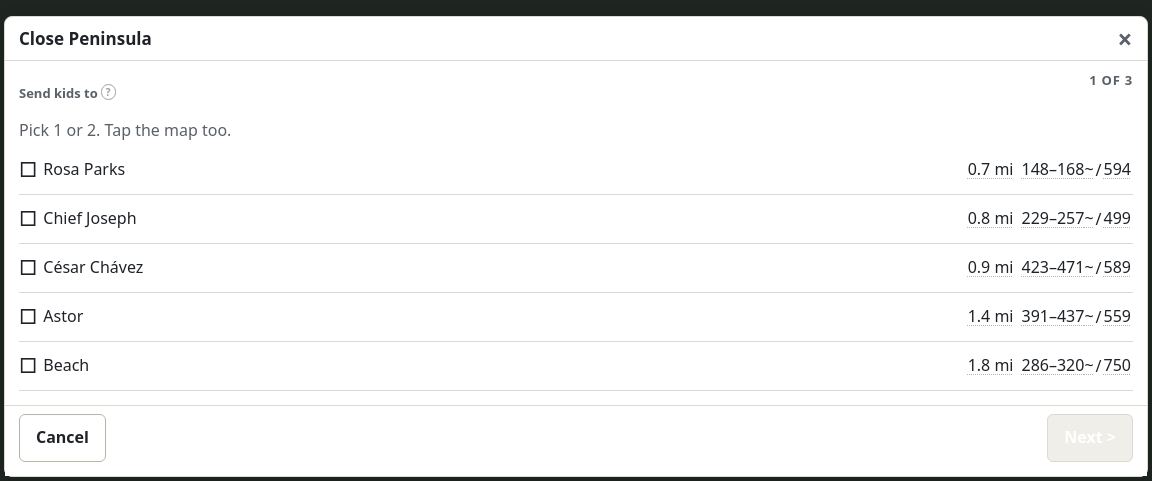
CloseSendSheet › needs a receiver before step 2
Expected: the button "Next >" is disabled, [1047,414,1133,462]
Click the button "□ Rosa Parks" at (84, 169), box [19,146,962,194]
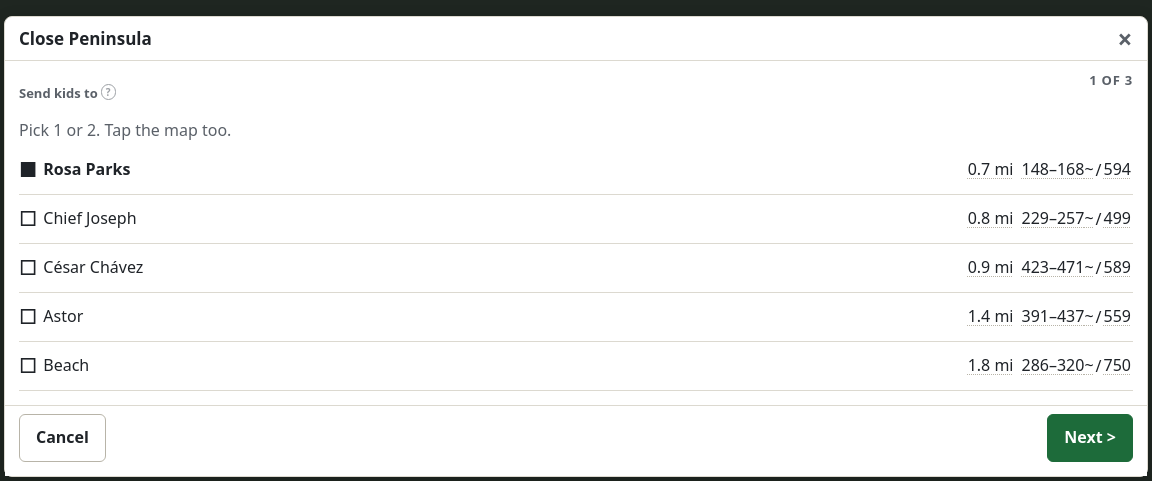
Expected: the button "■ Rosa Parks" is pressed, [19,146,962,194]
Click the button "Next >" at (1090, 438), box [1047,414,1133,462]
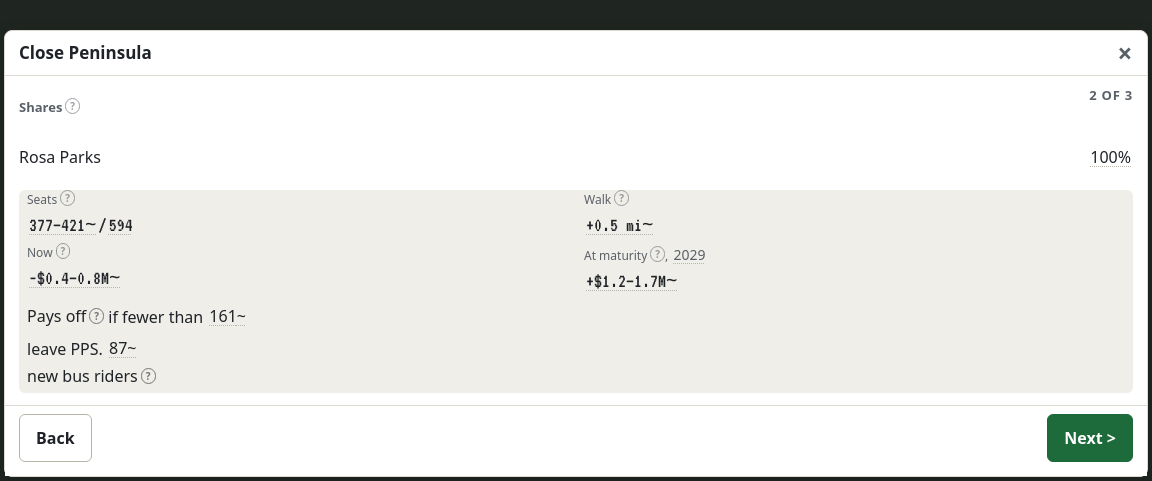
Expected: the text "2 of 3" is shown, [1089,86,1133,104]
